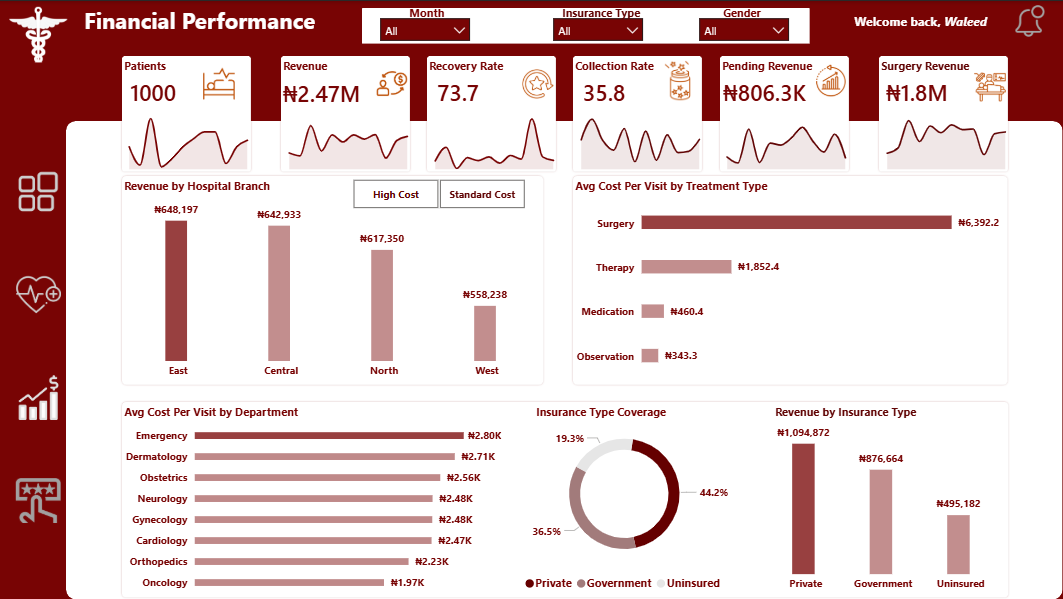

The page's visual inventory and layout, read from the dashboard file:
{"tool":"powerbi","page":{"name":"Financial Insights","canvas":[1280,720],"ordinal":3},"visuals":[{"type":"shape","box":[80,144,1200,576],"z":0},{"type":"shape","box":[144,64,160,144],"z":1000},{"type":"shape","box":[433,6,544,48],"z":2000},{"type":"shape","box":[144,208,512,256],"z":3000},{"type":"shape","box":[688,208,528,256],"z":4000},{"type":"shape","box":[144,480,1072,240],"z":5000},{"type":"clusteredColumnChart","fields":{"Category":["healthcare_dataset_1000_rows.Hospital Branch"],"Y":["_Measures.Total Revenue"]},"box":[144,192,512,272],"z":6000},{"type":"clusteredBarChart","fields":{"Category":["healthcare_dataset_1000_rows.Treatment Type"],"Y":["_Measures.Avg Cost Per Visit"]},"box":[688,224,528,240],"z":7000},{"type":"slicer","fields":{"Values":["DateTable.Month Name"]},"box":[448,10.8,128,48],"z":8000},{"type":"slicer","fields":{"Values":["healthcare_dataset_1000_rows.Insurance Type"]},"box":[656,10.8,128,48],"z":9000},{"type":"slicer","fields":{"Values":["healthcare_dataset_1000_rows.Age Group"]},"box":[832,10.8,128,48],"z":10000},{"type":"textbox","box":[865.5,0,64,32],"z":11000},{"type":"textbox","box":[672,0,128,32],"z":12000},{"type":"textbox","box":[465.5,0,96,32],"z":13000},{"type":"textbox","box":[419,64,64,32],"z":14000},{"type":"card","fields":{"Values":["_Measures.Total Patients"]},"box":[144,80,80,64],"z":15000},{"type":"lineChart","fields":{"Y":["_Measures.Total Patients"],"Category":["DateTable.Month Number"]},"box":[128,128,224,80],"z":16000},{"type":"textbox","box":[144,64,64,32],"z":17000},{"type":"clusteredBarChart","fields":{"Category":["healthcare_dataset_1000_rows.Hospital Department"],"Y":["_Measures.Avg Cost Per Visit"]},"box":[144,496,464,224],"z":18000},{"type":"textbox","box":[144,208,208,32],"z":19000},{"type":"textbox","box":[688,208,256,32],"z":20000},{"type":"textbox","box":[144,480,240,32],"z":21000},{"type":"textbox","box":[640,480,192,32],"z":22000},{"type":"shape","box":[336,64,160,144],"z":23000},{"type":"lineChart","fields":{"Category":["DateTable.Month Number"],"Y":["_Measures.Total Revenue"]},"box":[320,128,224,80],"z":24000},{"type":"card","fields":{"Values":["_Measures.Total Revenue"]},"box":[331.6,96,112,32],"z":25000},{"type":"shape","box":[512,64,160,144],"z":26000},{"type":"textbox","box":[512,64,112,32],"z":27000},{"type":"lineChart","fields":{"Category":["DateTable.Month Number"],"Y":["_Measures.Recovery Rate %"]},"box":[496,128,224,80],"z":28000},{"type":"card","fields":{"Values":["_Measures.Recovery Rate %"]},"box":[512,80,80,64],"z":29000},{"type":"textbox","box":[336,64,64,32],"z":30000},{"type":"shape","box":[688,64,160,144],"z":31000},{"type":"card","fields":{"Values":["_Measures.Collection Rate %"]},"box":[688,80,80,64],"z":32000},{"type":"textbox","box":[688,64,112,32],"z":33000},{"type":"lineChart","fields":{"Category":["DateTable.Month Number"],"Y":["_Measures.Collection Rate %"]},"box":[672,128,224,80],"z":34000},{"type":"shape","box":[864,64,160,144],"z":35000},{"type":"textbox","box":[864,64,128,32],"z":36000},{"type":"card","fields":{"Values":["_Measures.Pending Revenue"]},"box":[864,80,112,64],"z":37000},{"type":"lineChart","fields":{"Category":["DateTable.Month Number"],"Y":["_Measures.Pending Revenue"]},"box":[848,128,224,80],"z":38000},{"type":"shape","box":[1056,64,160,144],"z":39000},{"type":"textbox","box":[1056,64,128,32],"z":40000},{"type":"card","fields":{"Values":["_Measures.Surgery Revenue"]},"box":[1056,80,96,64],"z":41000},{"type":"lineChart","fields":{"Category":["DateTable.Month Number"],"Y":["_Measures.Surgery Revenue"]},"box":[1040,128,224,80],"z":42000},{"type":"donutChart","fields":{"Y":["_Measures.Total Patients"],"Category":["healthcare_dataset_1000_rows.Insurance Type"]},"box":[624,496,256,224],"z":43000},{"type":"columnChart","fields":{"Y":["_Measures.Total Revenue"],"Category":["healthcare_dataset_1000_rows.Insurance Type"]},"box":[912,496,304,224],"z":44000},{"type":"textbox","box":[928,480,208,32],"z":45000},{"type":"slicer","fields":{"Values":["healthcare_dataset_1000_rows.Is High Cost"]},"box":[400,208,256,48],"z":46000},{"type":"textbox","box":[96,0,304,48],"z":47000},{"type":"image","box":[624,75.8,48,48],"z":48000},{"type":"image","box":[240,67.8,48,64],"z":49000},{"type":"image","box":[448,67.8,48,64],"z":50000},{"type":"image","box":[6.4,198,80,64],"z":51000},{"type":"image","box":[14.4,322,64,64],"z":52000},{"type":"image","box":[14.4,446,64,64],"z":53000},{"type":"image","box":[6.4,570,80,64],"z":54000},{"type":"image","box":[6.4,0,80,80],"z":55000},{"type":"image","box":[1216,0,48,48],"z":56000},{"type":"image","box":[784,64,64,64],"z":57000},{"type":"image","box":[976,64,48,64],"z":58000},{"type":"textbox","box":[1024,10,176,32],"z":59000},{"type":"image","box":[1168,80,48,48],"z":60000}]}

Visuals, with their boxes on the page's 1280x720 design canvas (x1, y1, x2, y2). These are canvas units, not pixel positions in the 1063x599 screenshot, which may show the page scaled, cropped or inside an application window:
shape: 80:144:1280:720
shape: 144:64:304:208
shape: 433:6:977:54
shape: 144:208:656:464
shape: 688:208:1216:464
shape: 144:480:1216:720
clusteredColumnChart - healthcare_dataset_1000_rows.Hospital Branch x _Measures.Total Revenue: 144:192:656:464
clusteredBarChart - healthcare_dataset_1000_rows.Treatment Type x _Measures.Avg Cost Per Visit: 688:224:1216:464
slicer - DateTable.Month Name: 448:11:576:59
slicer - healthcare_dataset_1000_rows.Insurance Type: 656:11:784:59
slicer - healthcare_dataset_1000_rows.Age Group: 832:11:960:59
textbox: 866:0:930:32
textbox: 672:0:800:32
textbox: 466:0:562:32
textbox: 419:64:483:96
card - _Measures.Total Patients: 144:80:224:144
lineChart - _Measures.Total Patients x DateTable.Month Number: 128:128:352:208
textbox: 144:64:208:96
clusteredBarChart - healthcare_dataset_1000_rows.Hospital Department x _Measures.Avg Cost Per Visit: 144:496:608:720
textbox: 144:208:352:240
textbox: 688:208:944:240
textbox: 144:480:384:512
textbox: 640:480:832:512
shape: 336:64:496:208
lineChart - DateTable.Month Number x _Measures.Total Revenue: 320:128:544:208
card - _Measures.Total Revenue: 332:96:444:128
shape: 512:64:672:208
textbox: 512:64:624:96
lineChart - DateTable.Month Number x _Measures.Recovery Rate %: 496:128:720:208
card - _Measures.Recovery Rate %: 512:80:592:144
textbox: 336:64:400:96
shape: 688:64:848:208
card - _Measures.Collection Rate %: 688:80:768:144
textbox: 688:64:800:96
lineChart - DateTable.Month Number x _Measures.Collection Rate %: 672:128:896:208
shape: 864:64:1024:208
textbox: 864:64:992:96
card - _Measures.Pending Revenue: 864:80:976:144
lineChart - DateTable.Month Number x _Measures.Pending Revenue: 848:128:1072:208
shape: 1056:64:1216:208
textbox: 1056:64:1184:96
card - _Measures.Surgery Revenue: 1056:80:1152:144
lineChart - DateTable.Month Number x _Measures.Surgery Revenue: 1040:128:1264:208
donutChart - _Measures.Total Patients x healthcare_dataset_1000_rows.Insurance Type: 624:496:880:720
columnChart - _Measures.Total Revenue x healthcare_dataset_1000_rows.Insurance Type: 912:496:1216:720
textbox: 928:480:1136:512
slicer - healthcare_dataset_1000_rows.Is High Cost: 400:208:656:256
textbox: 96:0:400:48
image: 624:76:672:124
image: 240:68:288:132
image: 448:68:496:132
image: 6:198:86:262
image: 14:322:78:386
image: 14:446:78:510
image: 6:570:86:634
image: 6:0:86:80
image: 1216:0:1264:48
image: 784:64:848:128
image: 976:64:1024:128
textbox: 1024:10:1200:42
image: 1168:80:1216:128
